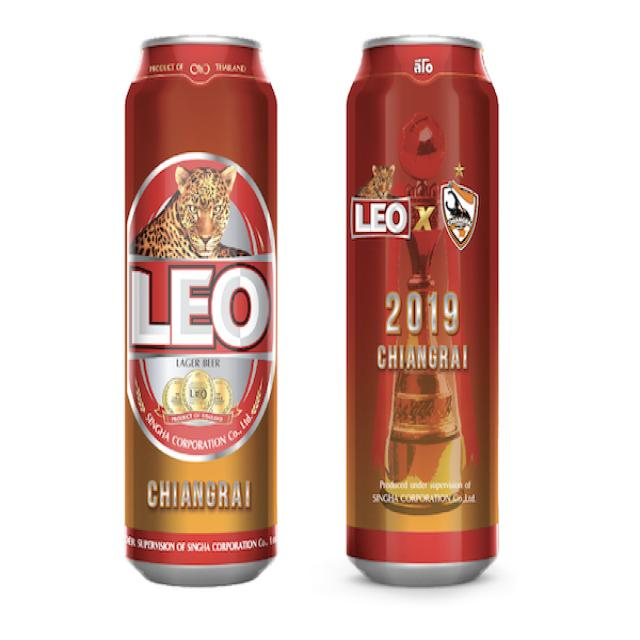can: (345, 31, 500, 588), (125, 33, 279, 587)
